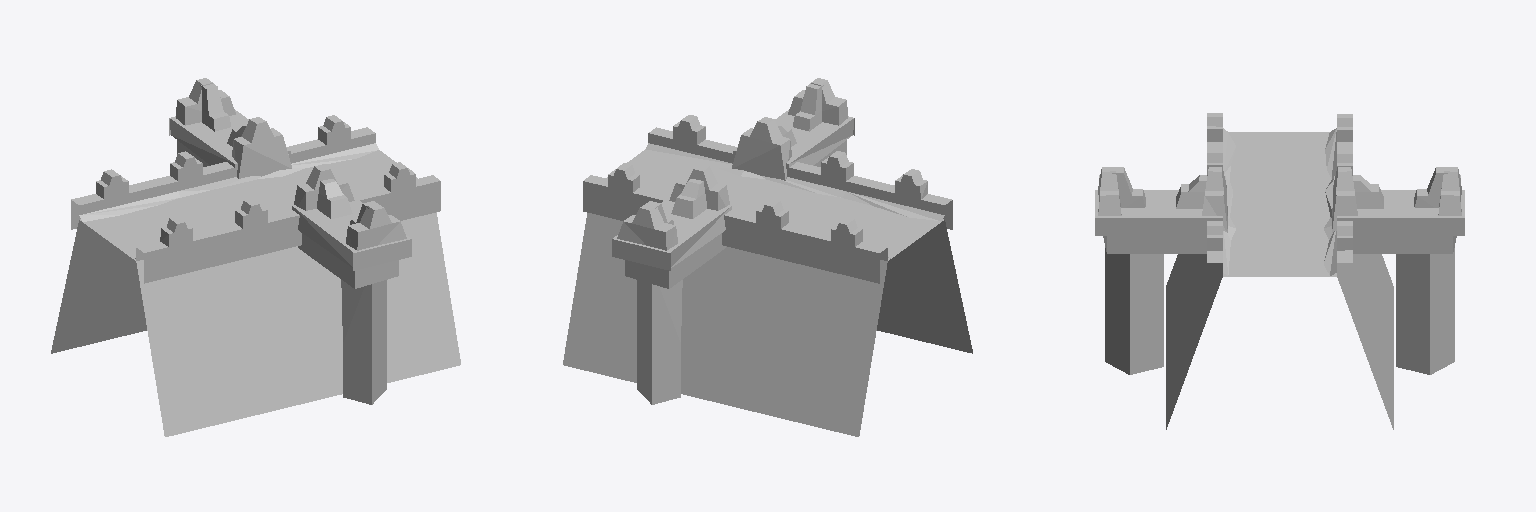
Rendered from templeStraightHorz5_prefab.obj.
3 views of the same model, side by side, from view 1: azimuth 30°, elevation 25°; view 2: azimuth 150°, elevation 25°; view 3: azimuth 270°, elevation 25° (orthographic).
Parts seen in each view (by area): view 1: Object93-Pivot; view 2: Object93-Pivot; view 3: Object93-Pivot.
Part boxes in pixels (x1,y1,x2,y2): Object93-Pivot: (51,78,460,436); Object93-Pivot: (563,78,972,436); Object93-Pivot: (1095,113,1464,429).
Bounding box in the file's own units: 60 × 40.04 × 64.72.